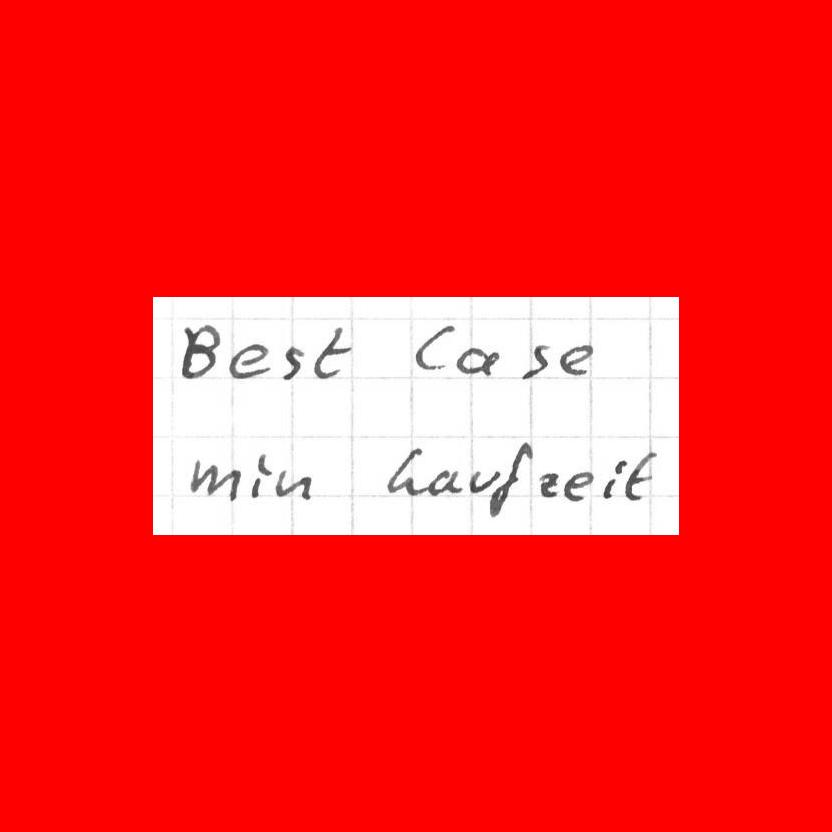Char: (483, 442, 532, 514), (179, 321, 220, 379), (186, 458, 241, 498), (313, 325, 353, 379), (413, 323, 454, 372), (384, 447, 423, 497), (228, 341, 269, 380), (624, 452, 658, 498), (557, 342, 597, 378), (520, 341, 552, 381), (455, 345, 494, 377), (273, 469, 310, 502), (248, 450, 272, 498), (278, 341, 306, 382), (562, 469, 594, 502), (600, 459, 624, 503), (426, 468, 463, 496), (468, 468, 500, 494), (537, 470, 560, 498)
